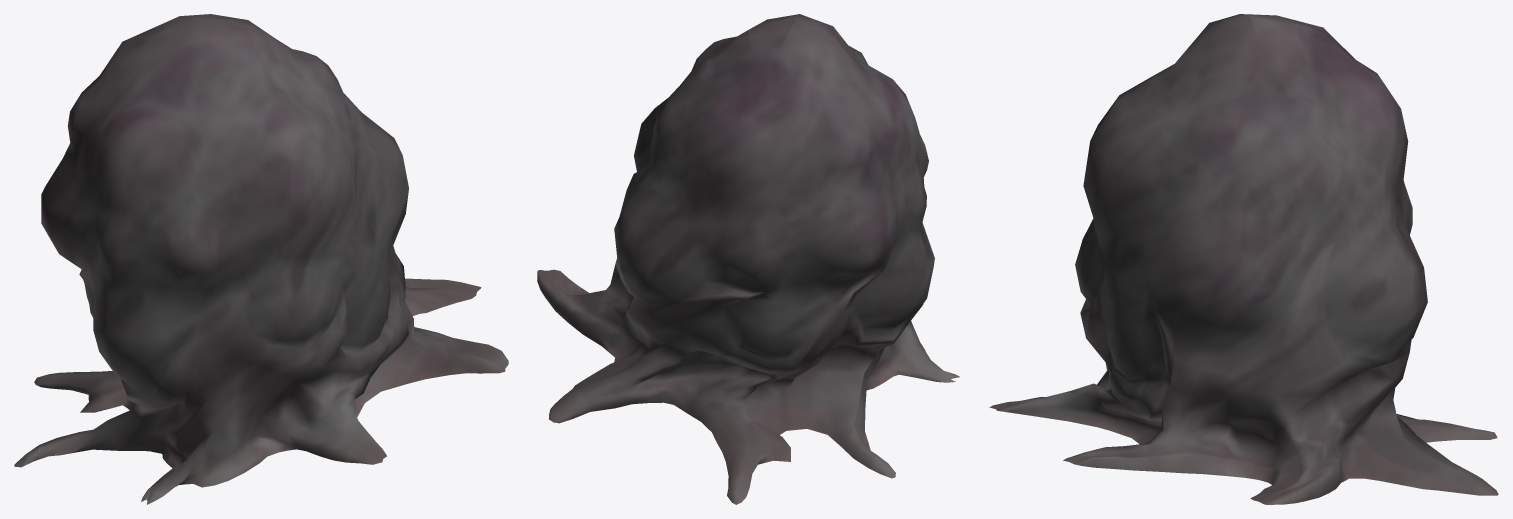
Rendered from Cocoon (20).fbx.
The picture shows the model from 3 angles, left to right: view 1: azimuth 30°, elevation 25°; view 2: azimuth 150°, elevation 25°; view 3: azimuth 270°, elevation 25°; orthographic projection. The views are drawn at different scales.
Visible parts, largest first — view 1: Egg; view 2: Egg; view 3: Egg.
Boxes of the visible parts, x1,y1,x2,y2 form: Egg: [14, 14, 508, 504]; Egg: [537, 14, 959, 504]; Egg: [989, 14, 1498, 504].
Size of the model in its own units: 0.9423 by 0.9213 by 0.9416.
